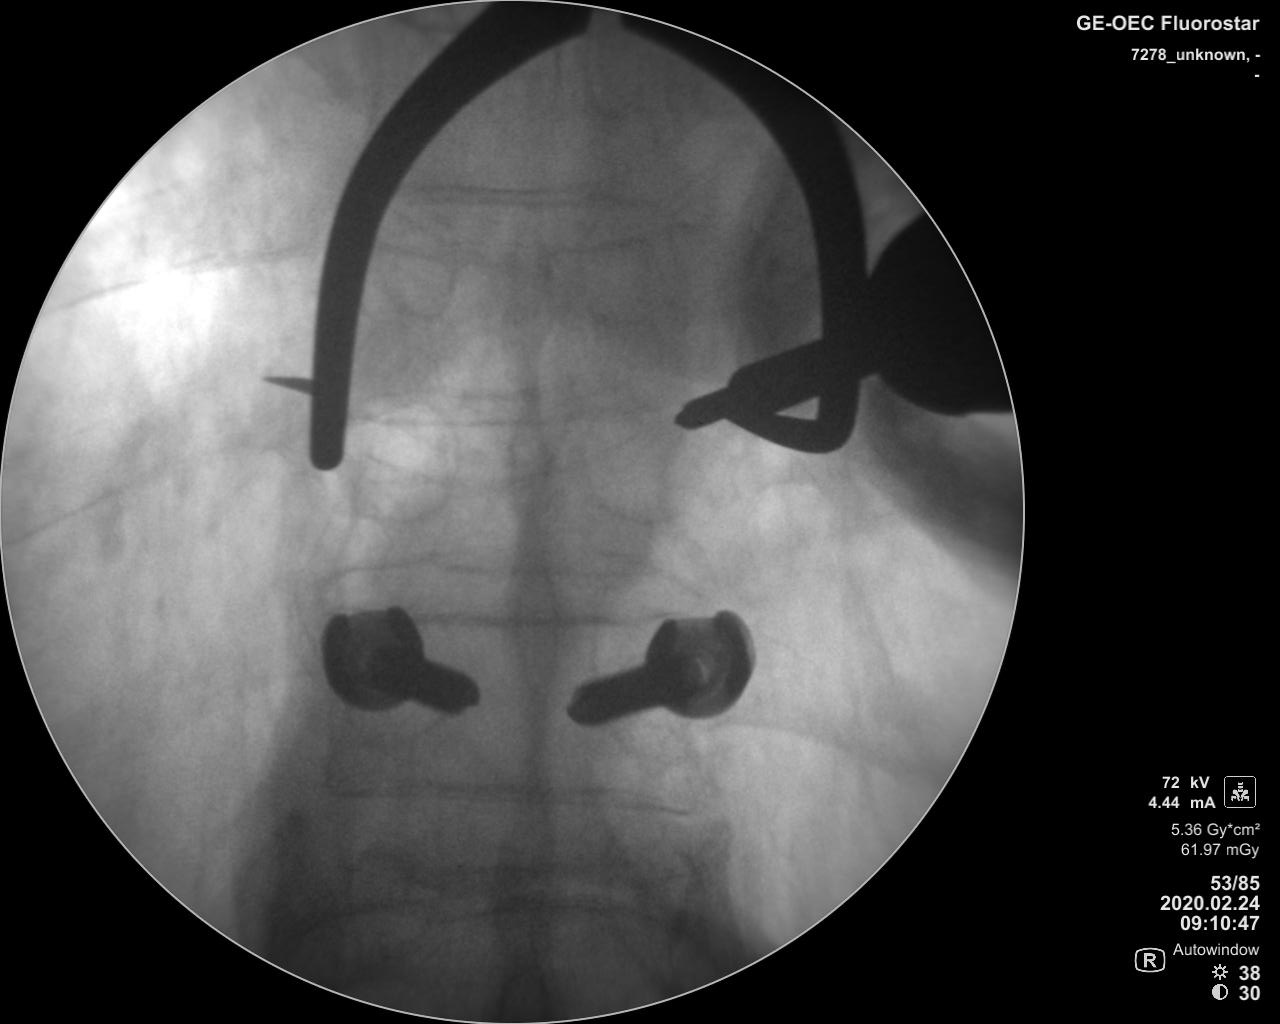eyes: (349, 394, 458, 527), (576, 413, 671, 525), (581, 215, 666, 329), (386, 213, 457, 326)
line: (342, 770, 669, 815), (358, 387, 656, 428), (348, 545, 654, 583), (387, 227, 653, 259), (408, 174, 650, 207), (414, 610, 658, 629)
nose: (484, 792, 553, 959), (491, 212, 552, 385), (498, 533, 560, 698), (493, 386, 560, 520)
